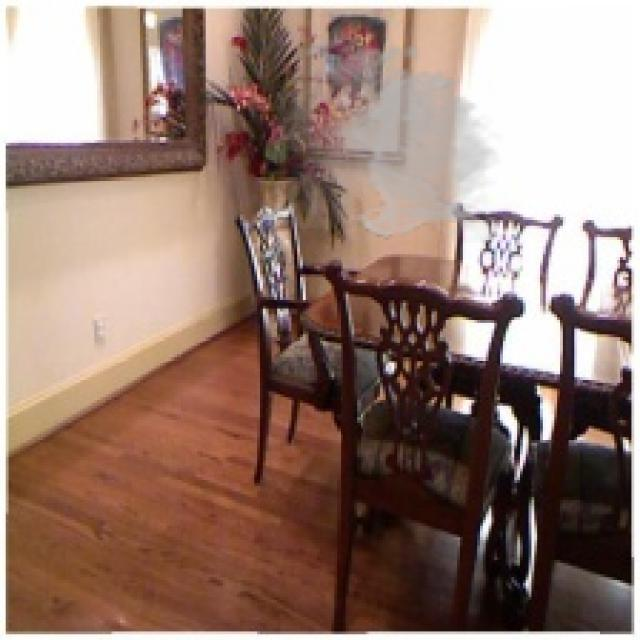Smoke: (277, 31, 503, 243)
